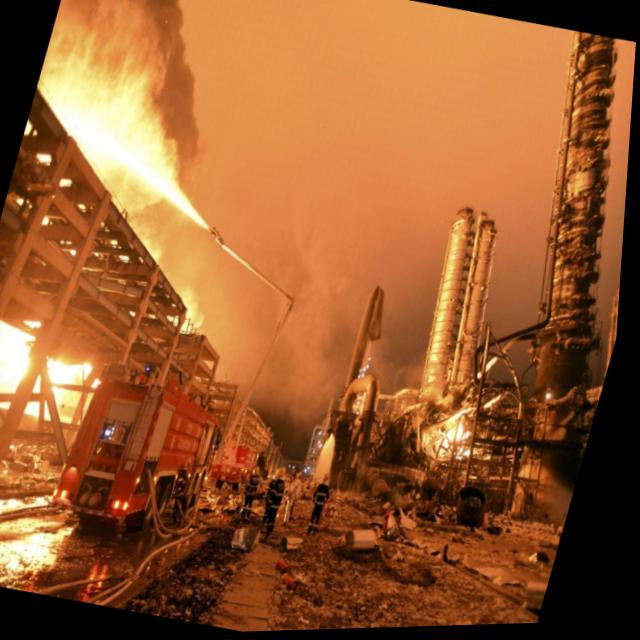fire: (12, 34, 210, 228), (0, 310, 121, 429), (433, 411, 485, 462), (172, 284, 214, 339)
